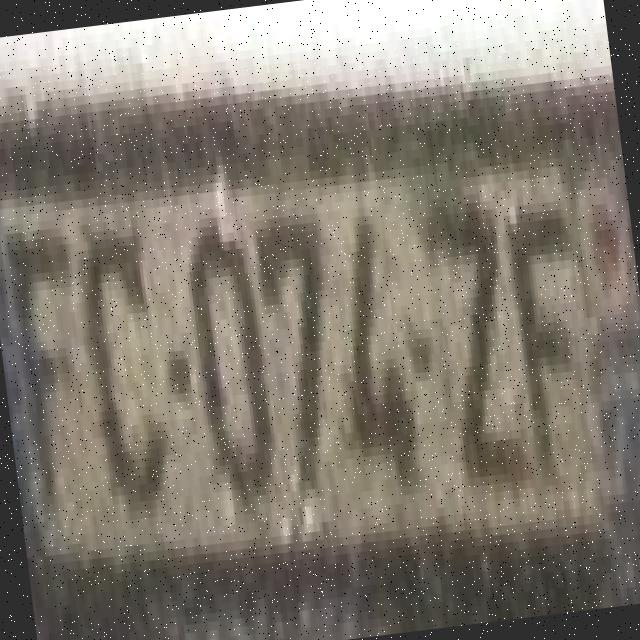Autre: (0, 141, 640, 564)
